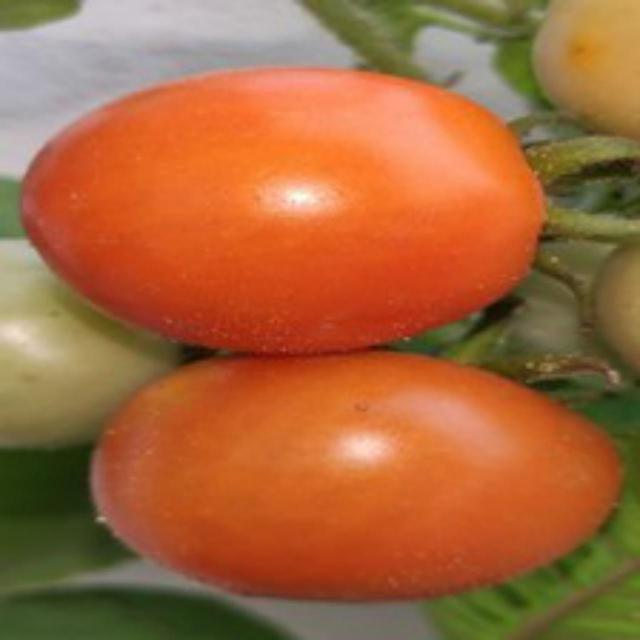tomato: (17, 59, 553, 352), (80, 350, 626, 600)
